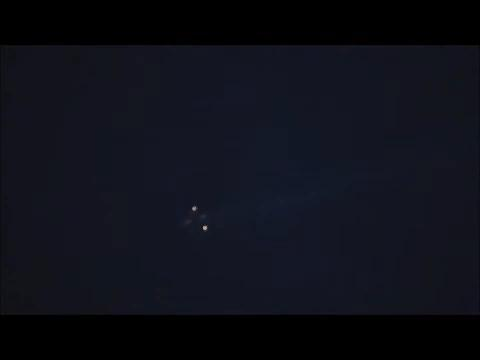Plane: (158, 194, 230, 242)
